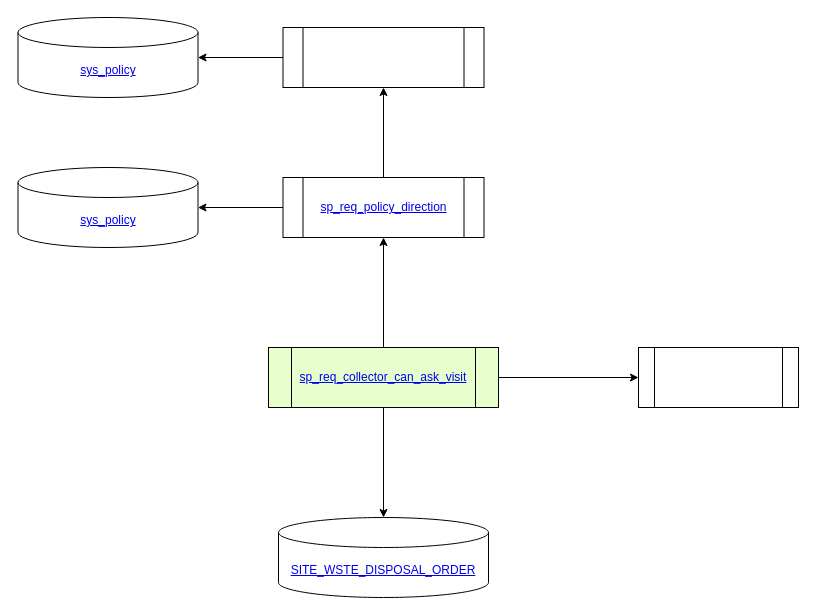
The diagram is 816 pixels wide and 615 high, and some of its shapes have lost their labels. The shapes that lost their labels are listed below. From the top down, each one's centre as x and y in pixels, then its label:
the point at 383,57: sp_req_policy_exists
the point at 718,377: sp_req_current_time
